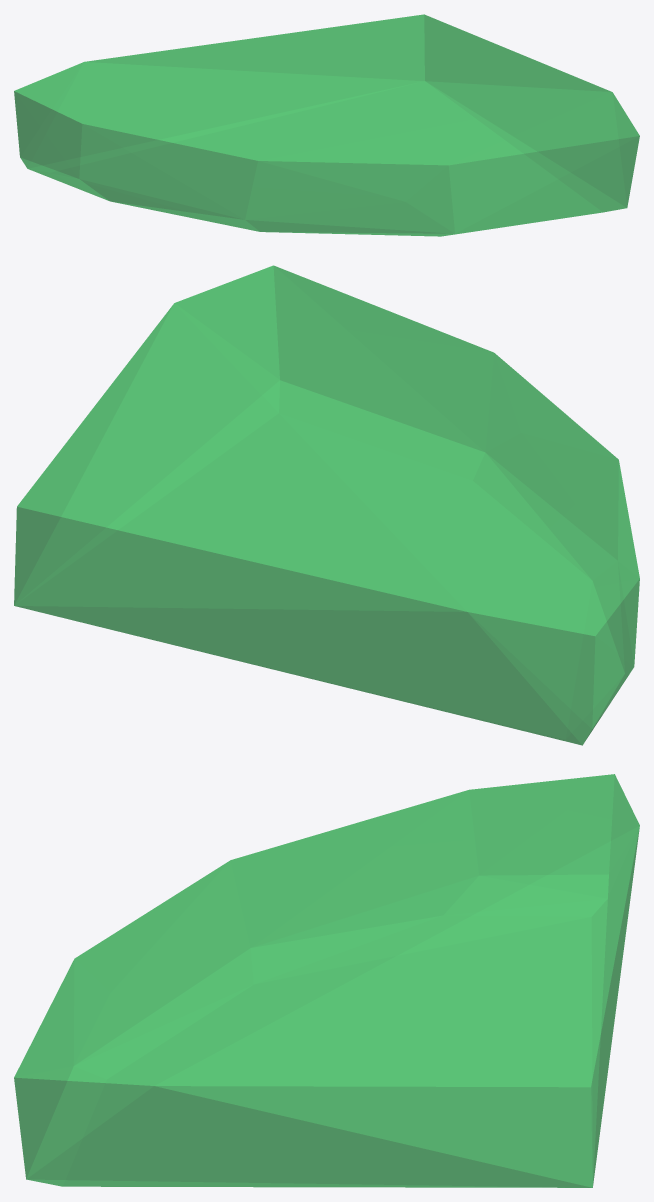
3 views of the same model, one above another, from view 1: azimuth 30°, elevation 25°; view 2: azimuth 150°, elevation 25°; view 3: azimuth 270°, elevation 25° (orthographic). The views are drawn at different scales.
Parts seen in each view (by area): view 1: Shape_IndexedFaceSet.001_Shape_IndexedFaceSet.8280; view 2: Shape_IndexedFaceSet.001_Shape_IndexedFaceSet.8280; view 3: Shape_IndexedFaceSet.001_Shape_IndexedFaceSet.8280.
Part boxes in pixels (bbox=[...]): Shape_IndexedFaceSet.001_Shape_IndexedFaceSet.8280: bbox=[14, 14, 639, 236]; Shape_IndexedFaceSet.001_Shape_IndexedFaceSet.8280: bbox=[14, 265, 639, 745]; Shape_IndexedFaceSet.001_Shape_IndexedFaceSet.8280: bbox=[14, 774, 639, 1187].
Bounding box in the file's own units: 0.432 × 0.0821 × 0.358.
